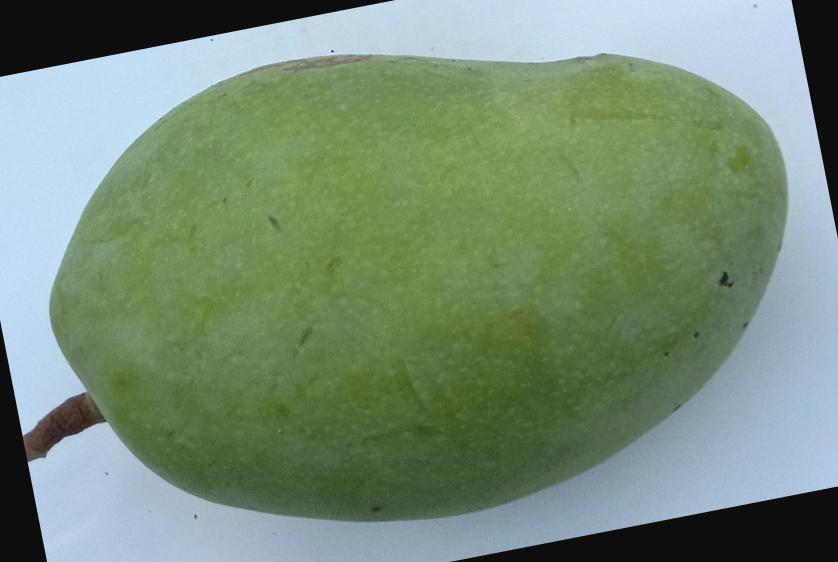Mango Unripe: (0, 0, 830, 562)
